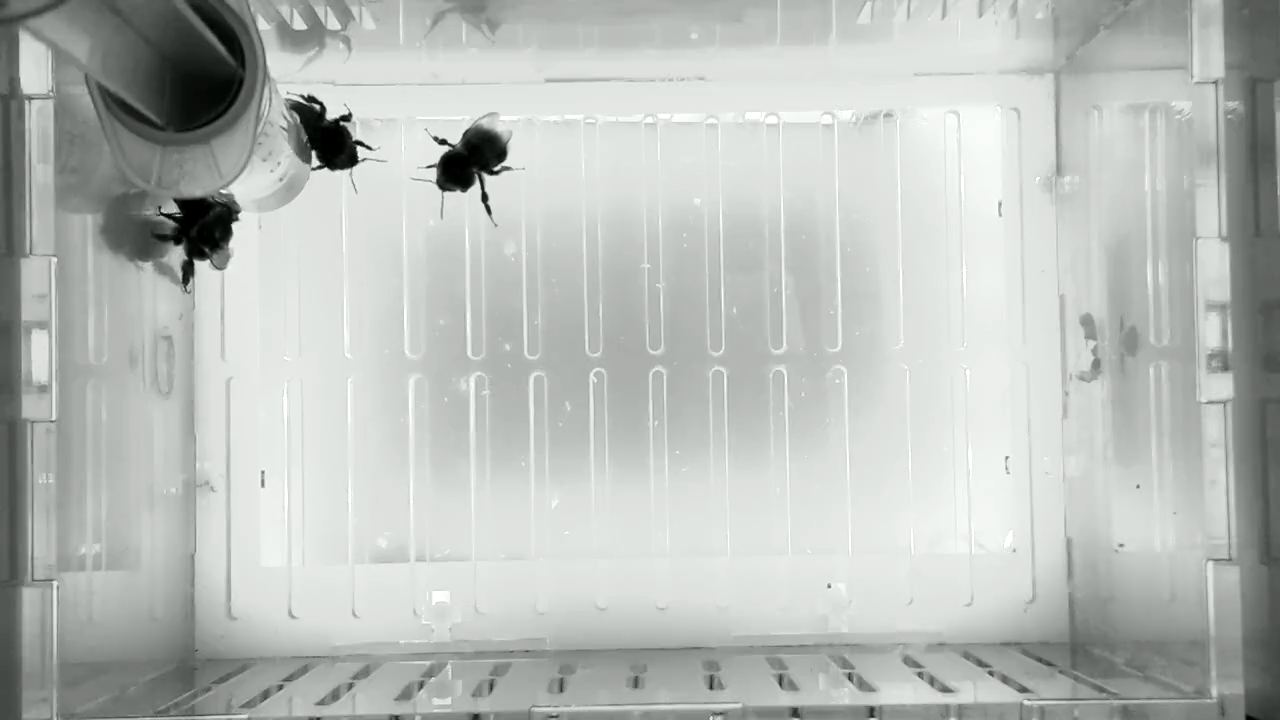bee_alive: (408, 106, 532, 224), (279, 86, 392, 197), (149, 179, 244, 302)
feeder: (213, 77, 317, 215)
